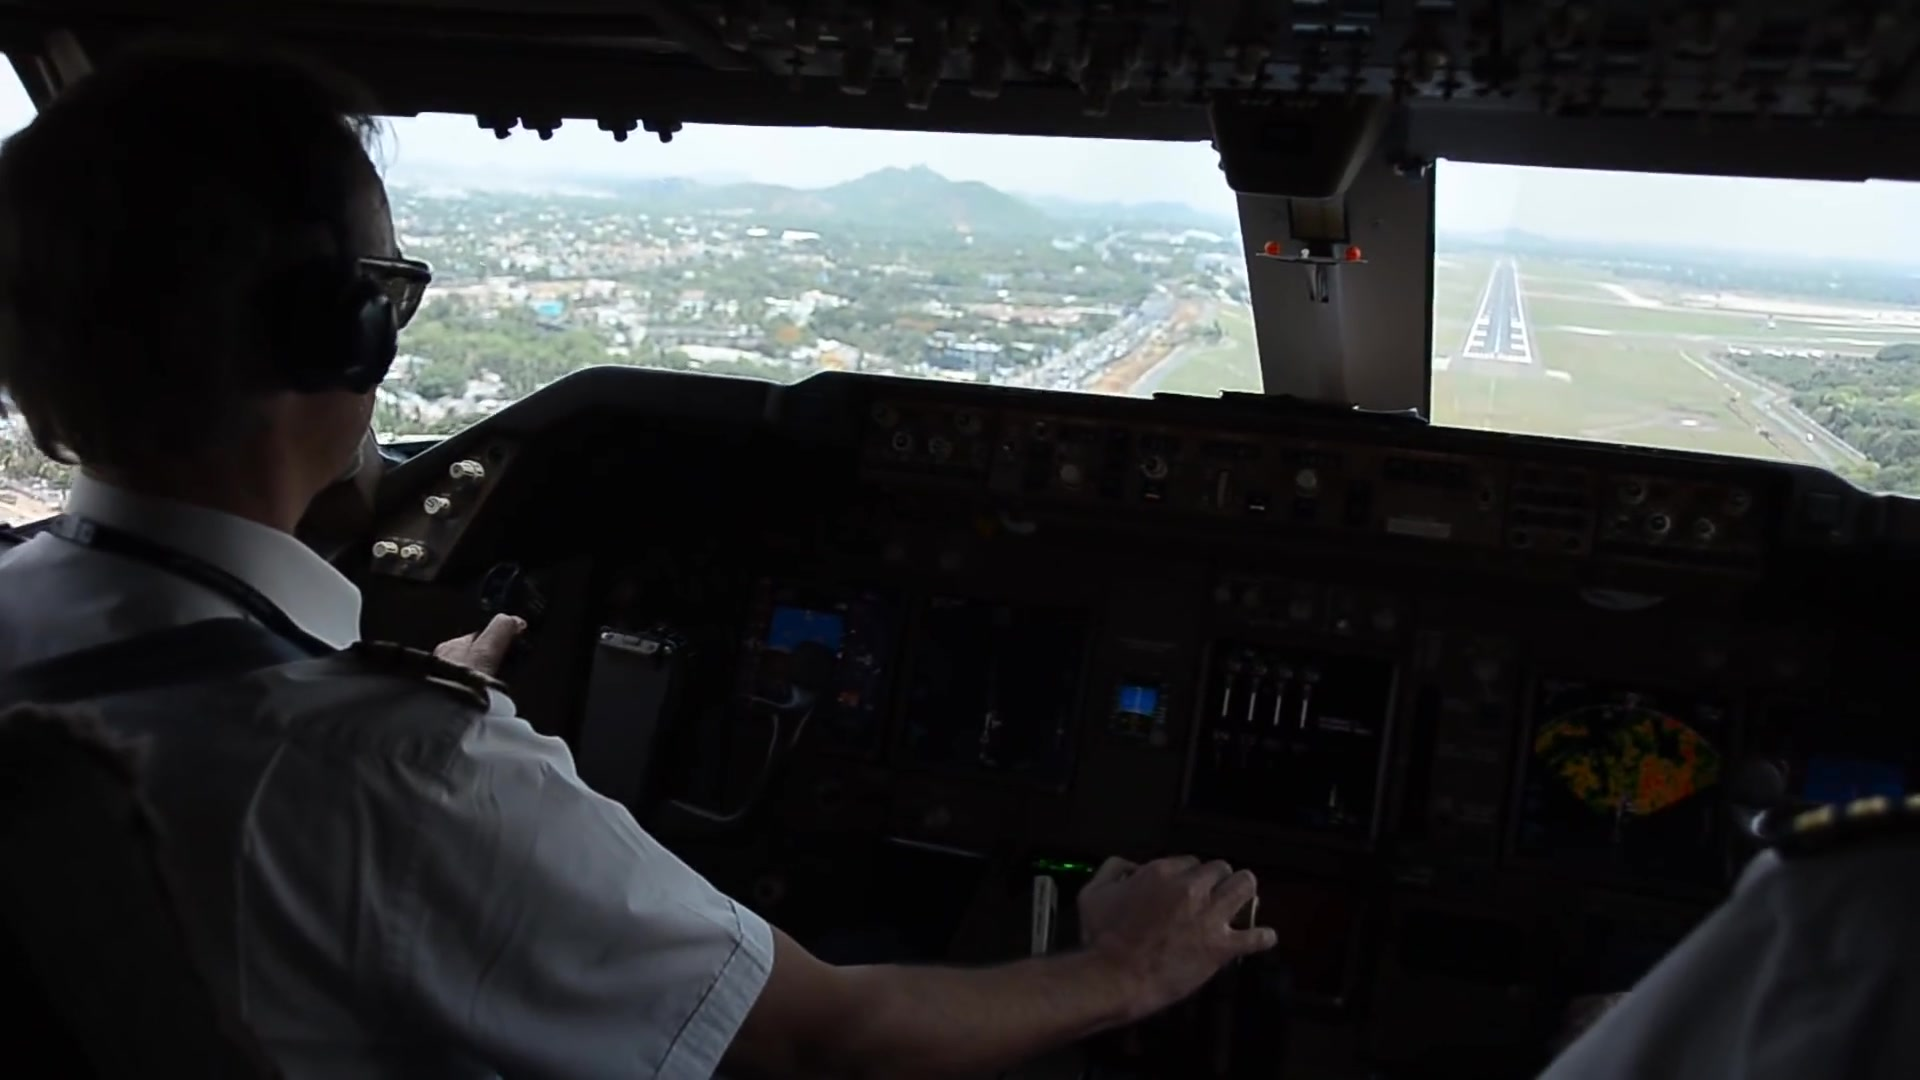entrance: (1468, 351, 1527, 361)
runway: (1455, 258, 1542, 373)
